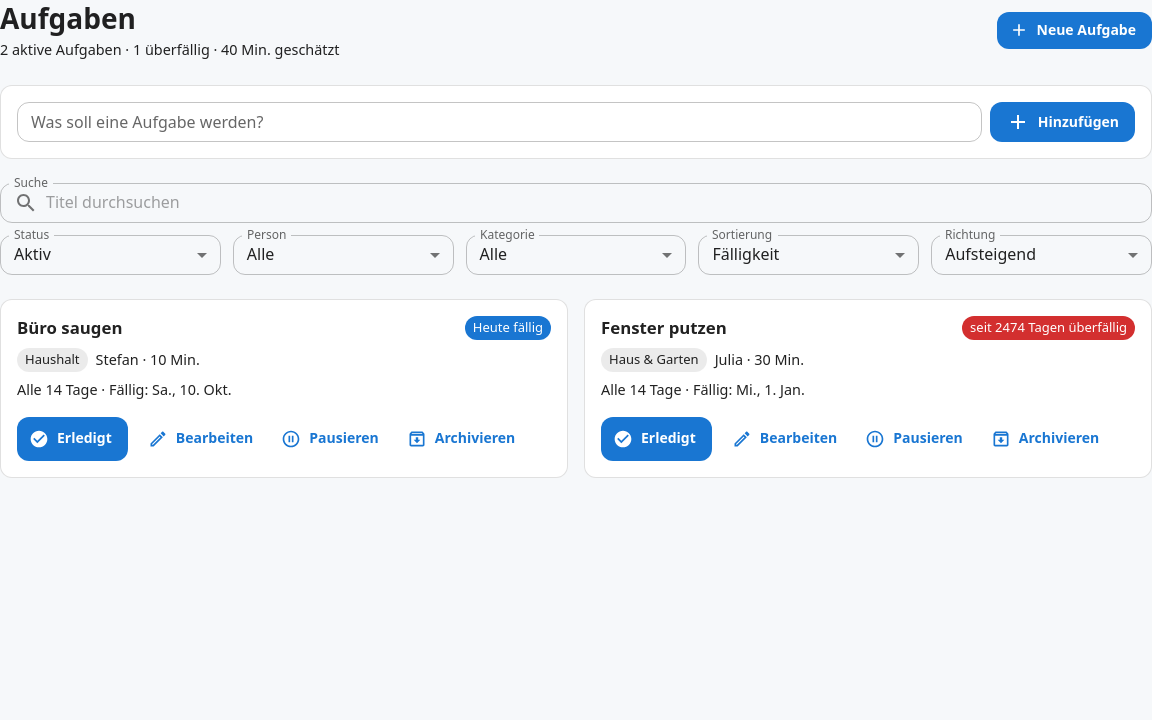
Test: TennersPage › archives a Tenner only after confirmation
Step 1. Click the button with aria-label "„Fenster putzen“ archivieren" → (1047, 439), box [987,420,1107,457]
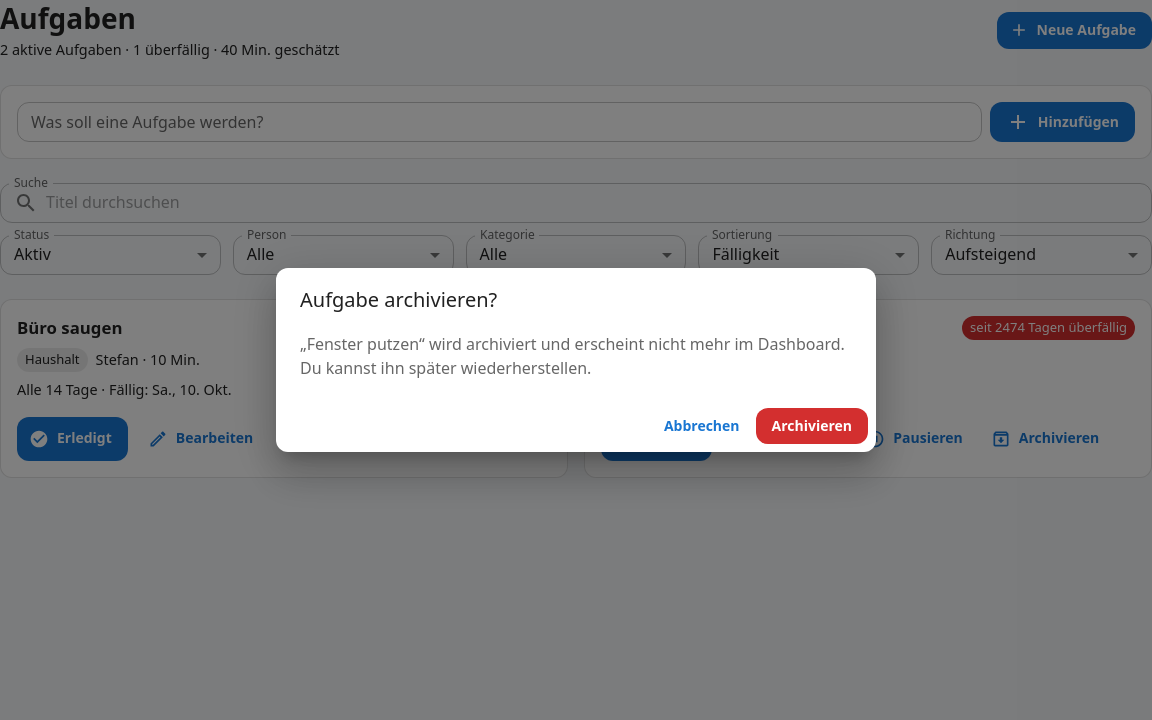
Step 2. Click the button "Abbrechen" → (702, 426), box [656,408,748,444]
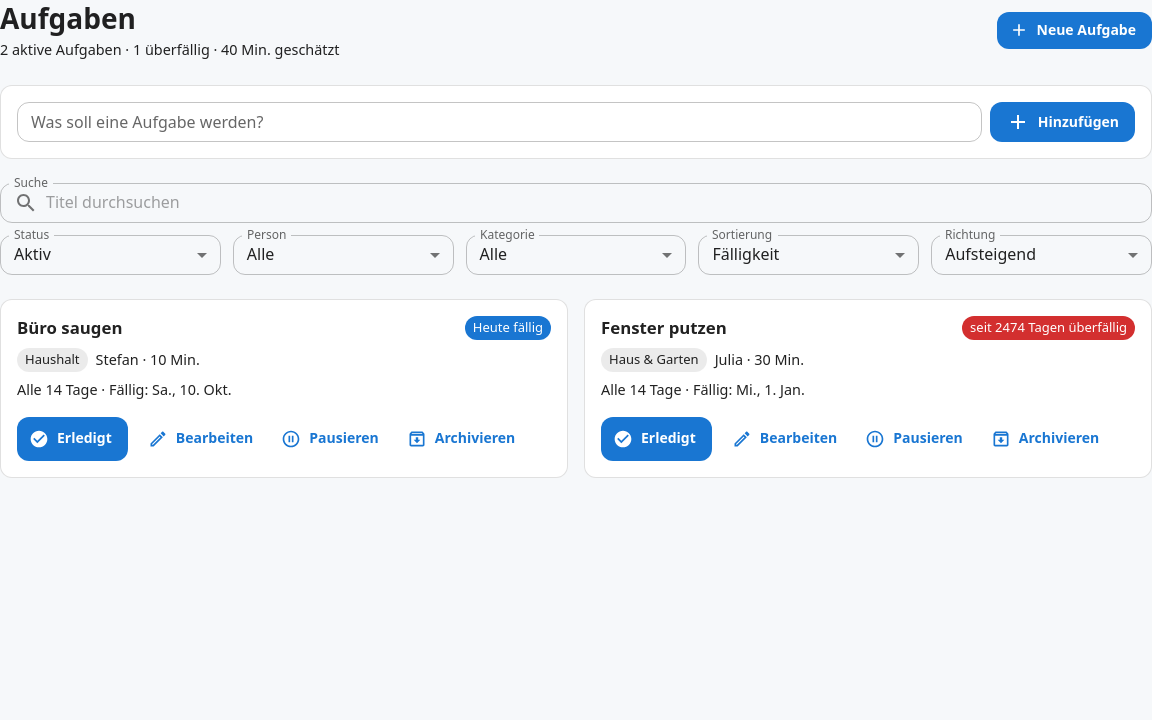
Step 3. Click the button with aria-label "„Fenster putzen“ archivieren" → (1047, 439), box [987,420,1107,457]
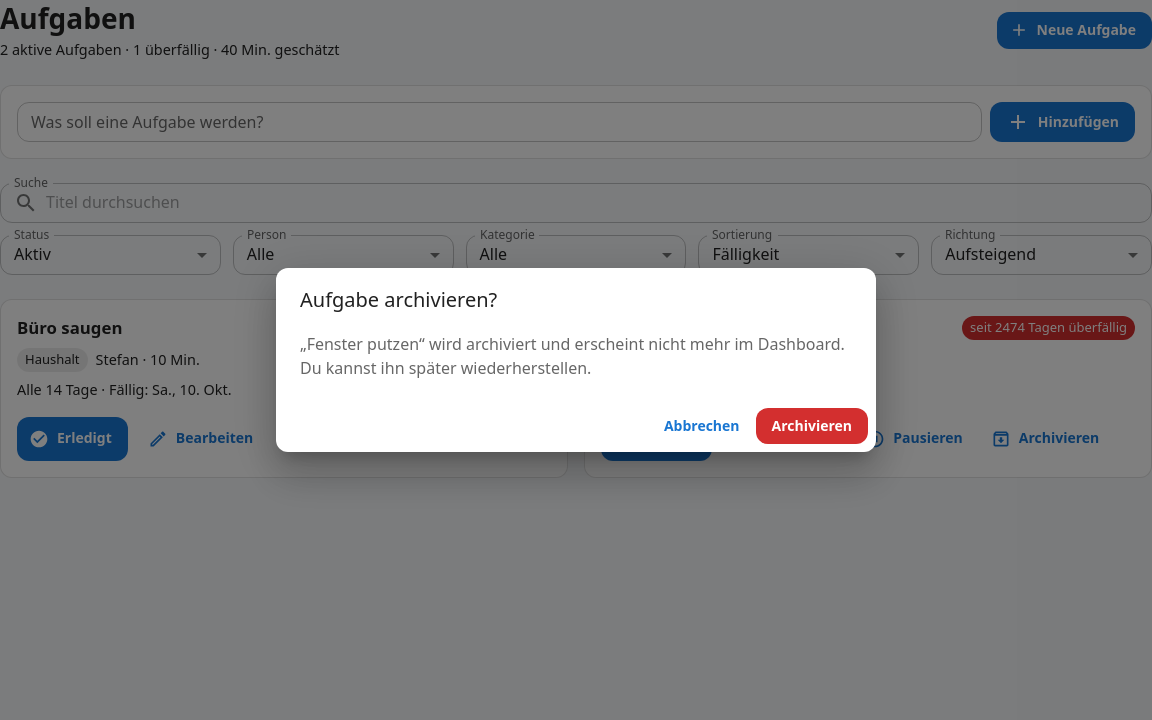
Step 4. Click the button "Archivieren" → (812, 426), box [756,408,868,444]
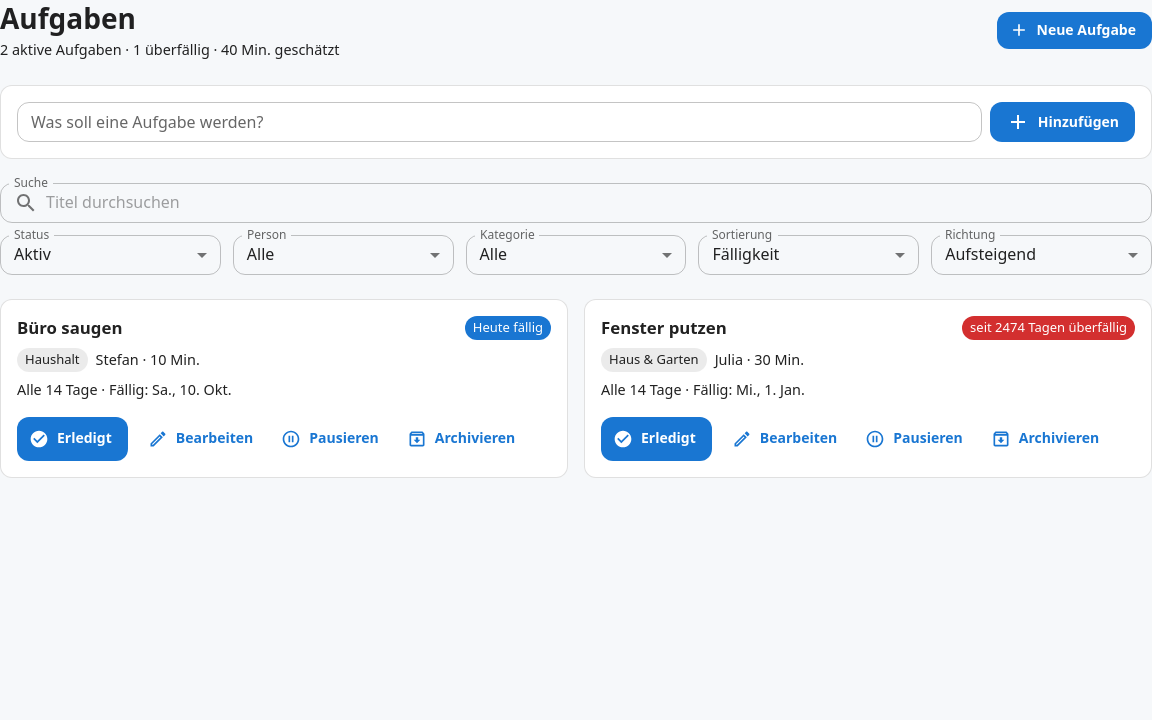
Check: the dialog is gone
